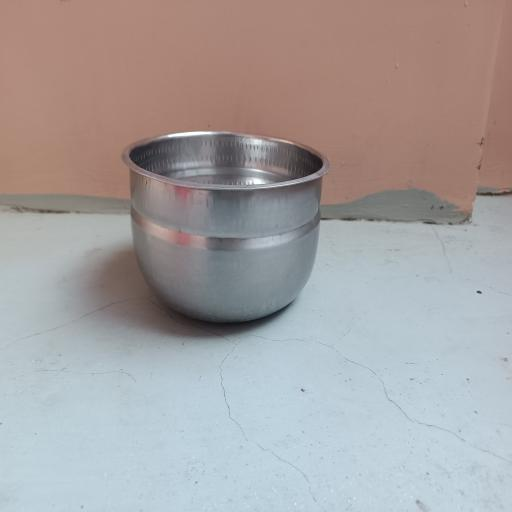vessel: (122, 132, 330, 322)
